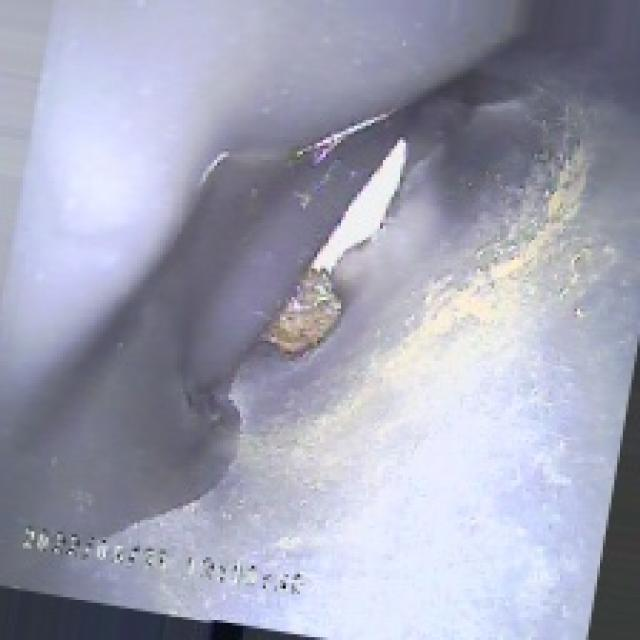shape_deformation: (46, 46, 537, 500)
